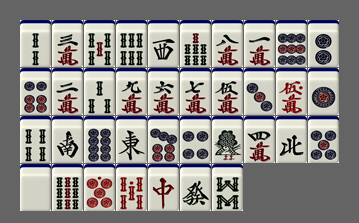0m: (276, 68, 307, 115)
0p: (84, 164, 115, 211)
0s: (116, 164, 147, 211)
1m: (244, 20, 275, 67)
1p: (308, 68, 339, 115)
1s: (212, 116, 243, 163)
1z: (116, 116, 147, 163)
2m: (52, 68, 83, 115)
2p: (308, 20, 339, 67)
2s: (20, 20, 51, 67)
2z: (52, 116, 83, 163)
3m: (52, 20, 83, 67)
3p: (244, 68, 275, 115)
3s: (84, 68, 115, 115)
3z: (148, 20, 179, 67)
4m: (244, 116, 275, 163)
4p: (180, 116, 211, 163)
4s: (20, 116, 51, 163)
4z: (276, 116, 307, 163)
5m: (212, 68, 243, 115)
5p: (308, 116, 339, 163)
5s: (84, 20, 115, 67)
5z: (20, 164, 51, 211)
6m: (148, 68, 179, 115)
6p: (20, 68, 51, 115)
6s: (116, 20, 147, 67)
6z: (180, 164, 211, 211)
7m: (180, 68, 211, 115)
7p: (148, 116, 179, 163)
7s: (180, 20, 211, 67)
7z: (148, 164, 179, 211)
8m: (212, 20, 243, 67)
8p: (84, 116, 115, 163)
8s: (212, 164, 243, 211)
9m: (116, 68, 147, 115)
9p: (276, 20, 307, 67)
9s: (52, 164, 83, 211)
